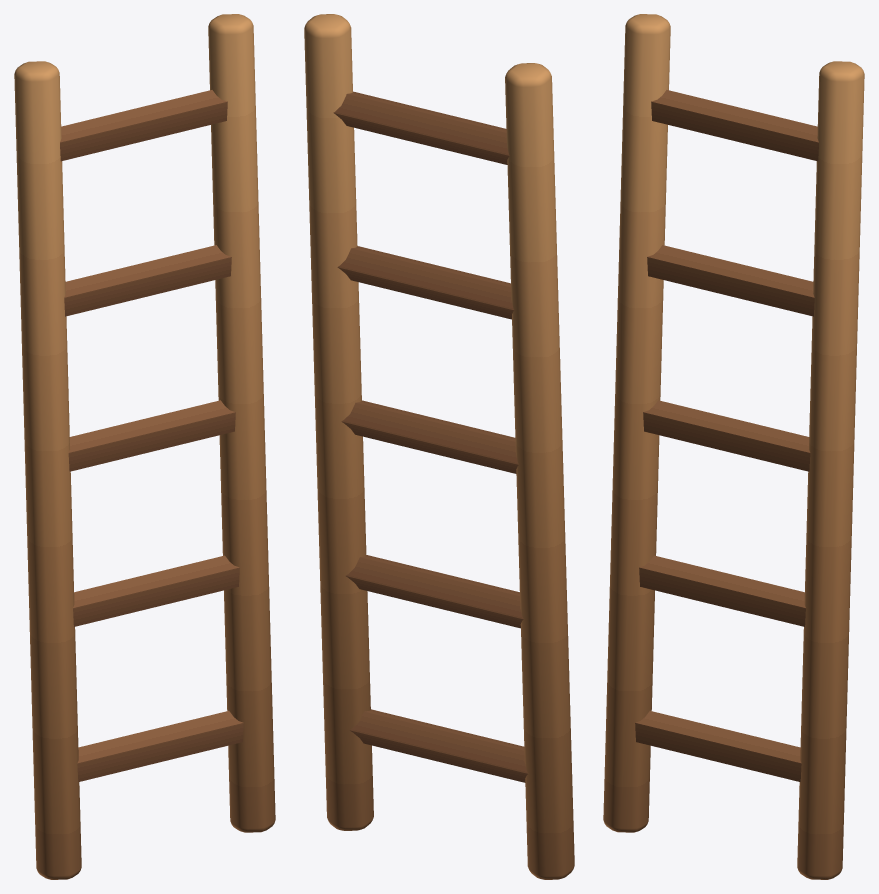
File: ladder.glb
3 views of the same model, side by side, from view 1: azimuth 30°, elevation 25°; view 2: azimuth 150°, elevation 25°; view 3: azimuth 330°, elevation 25° (orthographic). The views are drawn at different scales.
Parts seen in each view (by area): view 1: ladder; view 2: ladder; view 3: ladder.
Part boxes in pixels (left/top/right/bottom): ladder: left=14, top=14, right=275, bottom=879; ladder: left=304, top=14, right=574, bottom=879; ladder: left=603, top=14, right=864, bottom=879.
Size of the model in its own units: 0.2381 by 0.7815 by 0.0798.
1 material, 1 textured.
